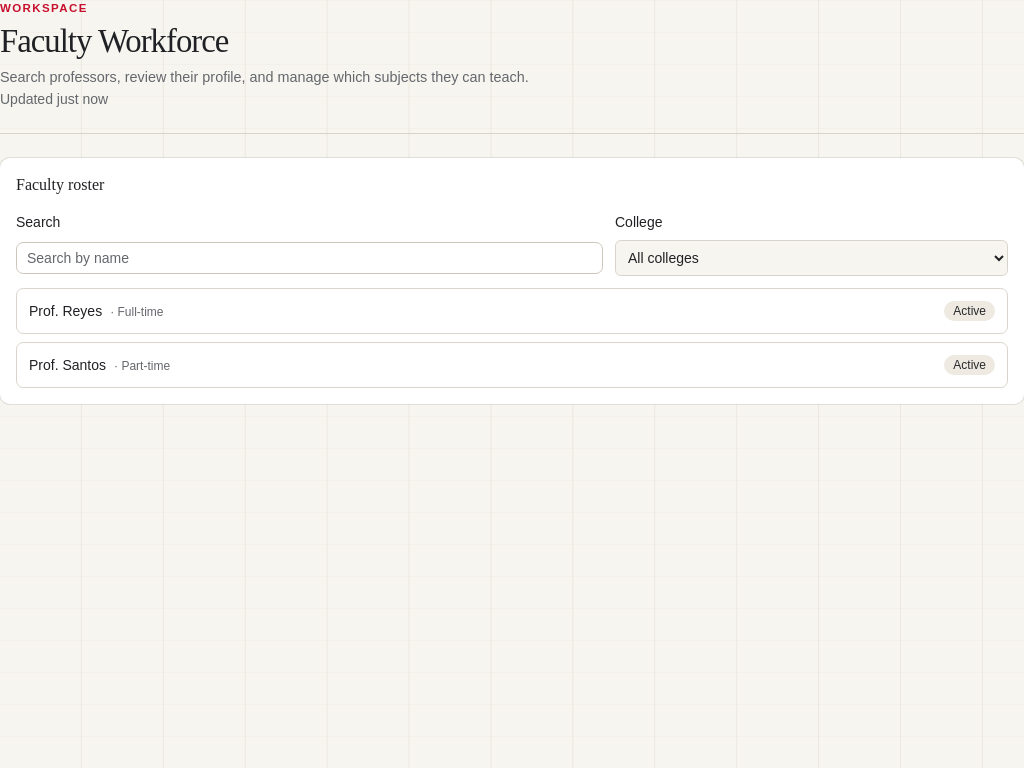
it: FacultyWorkforceWorkspace › gives Registrar Head a read-only view with a college filter and no edit access
Expected: the text "Prof. Reyes" is shown, [29,303,102,319]
Expected: the dropdown labelled "College" is shown, [615,240,1008,276]
Click the text "Prof. Santos": coordinates (68, 365) [29,357,106,373]
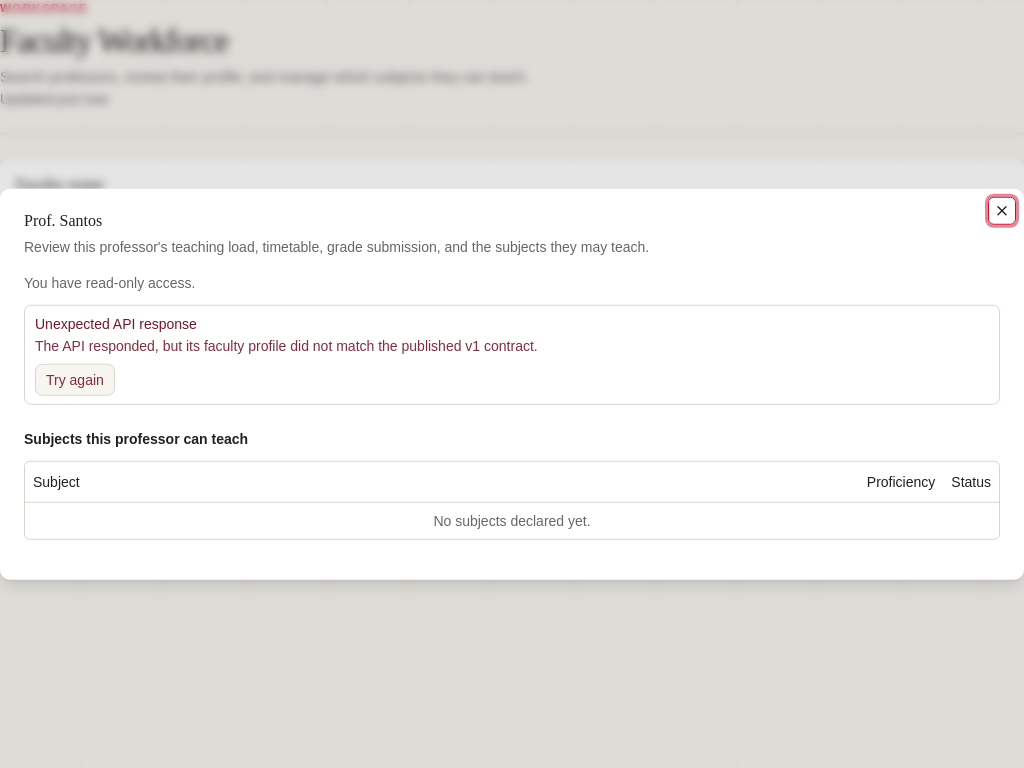
Now the text "You have read-only access." is shown, box [24,275,196,291]
